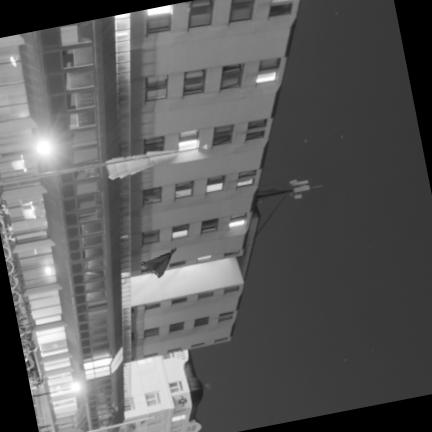Shahed: (142, 249, 176, 277)
